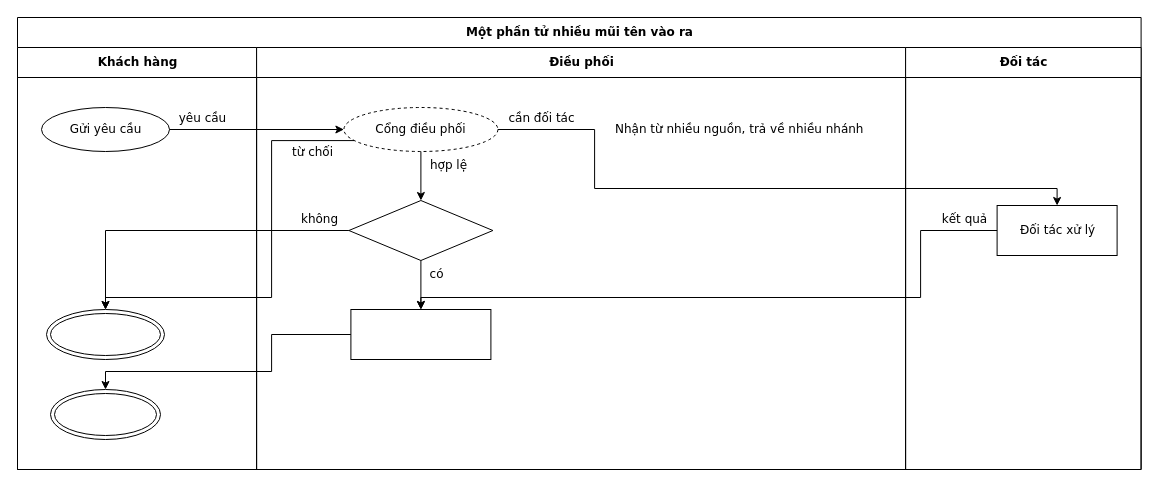
This 1159x487 diagram has some shape labels left out. Here are the shapes that lost their labels. From the top down, the centre of each, then its label:
At (x=420, y=230): "Đủ hạn mức?".
At (x=105, y=334): "Bị từ chối".
At (x=420, y=334): "Tổng hợp kết quả".
At (x=105, y=414): "Hoàn tất".
